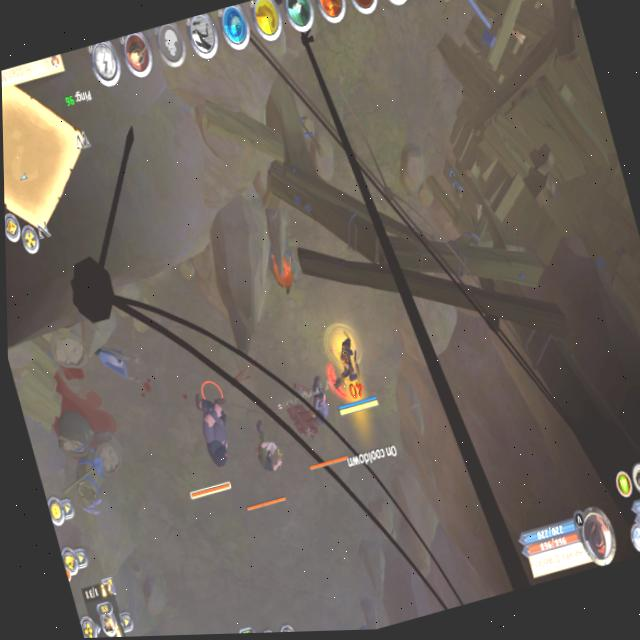ore: (159, 370, 259, 505), (276, 360, 355, 477), (222, 413, 300, 516)
red: (313, 318, 382, 420)
